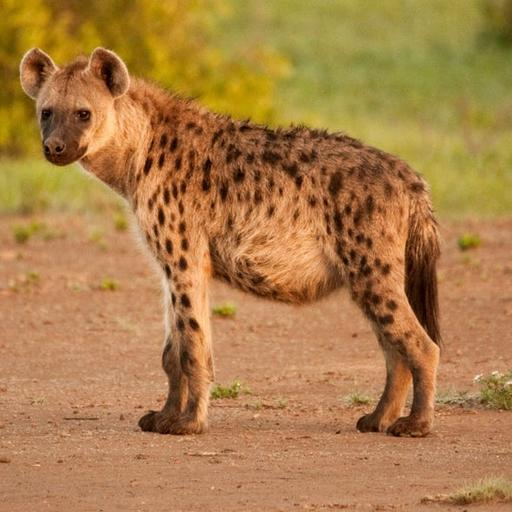Hyena: (18, 45, 448, 442)
